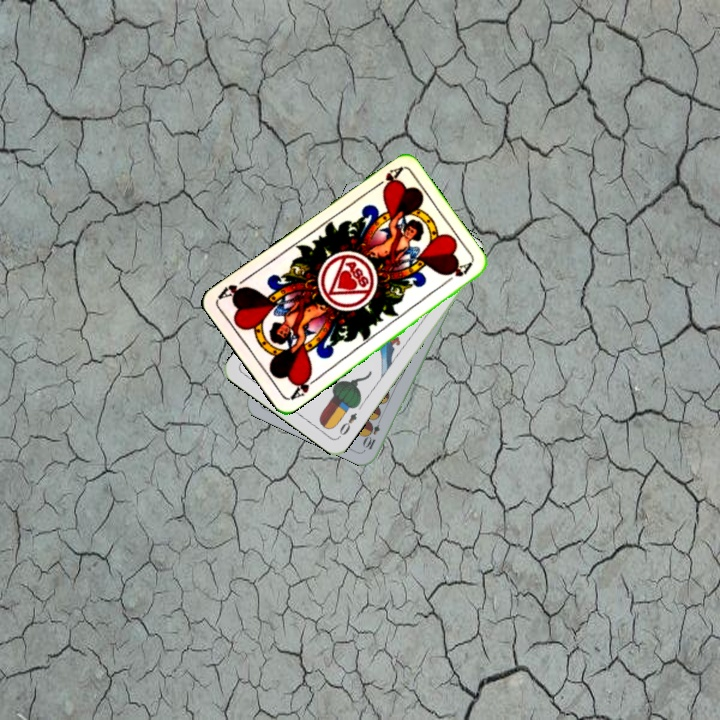E10: (360, 413, 384, 452)
EO: (334, 408, 360, 440)
HA: (286, 370, 322, 403), (369, 163, 405, 194)
